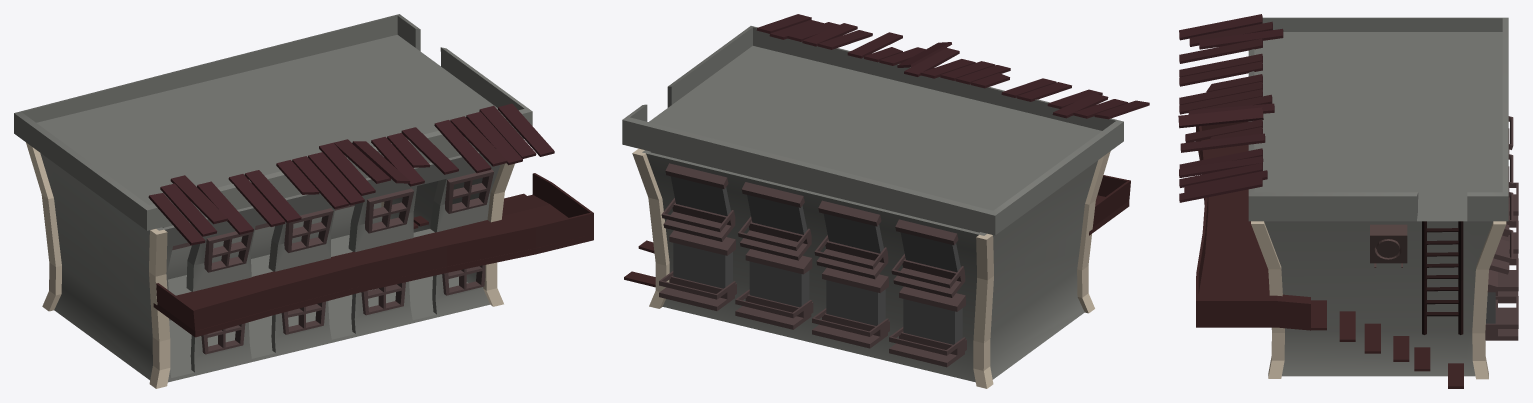
File: Apartment_mesh.fbx
3 renders of one model, left to right at view 1: azimuth 30°, elevation 25°; view 2: azimuth 150°, elevation 25°; view 3: azimuth 270°, elevation 25°, orthographic. The views are drawn at different scales.
Visible parts, largest first — view 1: polySurface4; view 2: polySurface4; view 3: polySurface4.
Part boxes in pixels (box(x1,y1,x2,y2)): polySurface4: box(14, 14, 593, 388); polySurface4: box(622, 14, 1149, 388); polySurface4: box(1178, 14, 1518, 388).
Bounding box in the file's own units: 1717 × 792 × 1233.
